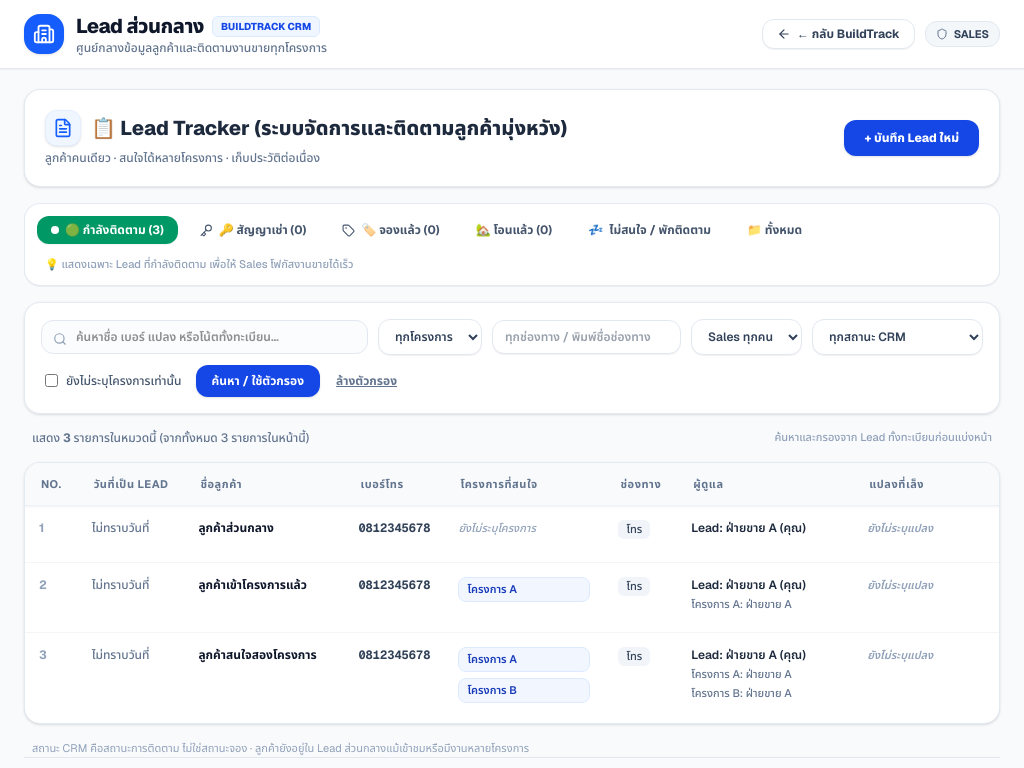
central lead workspace › preserves successful save feedback if the subsequent list refresh fails
Expected: the table is shown, [25,462,999,723]
Click the button "+ บันทึก Lead ใหม่" at (912, 138), box [844,120,979,156]
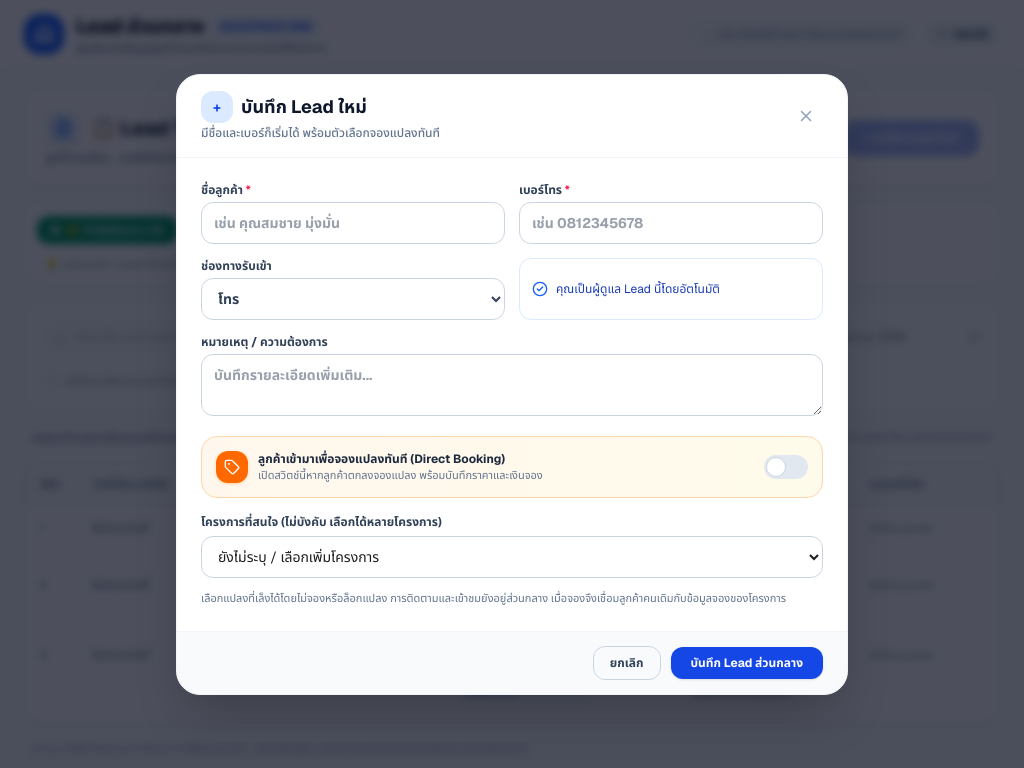
Type "ลูกค้าใหม่" into the field labelled "ชื่อลูกค้า *" at (353, 222), box [201,202,505,244]
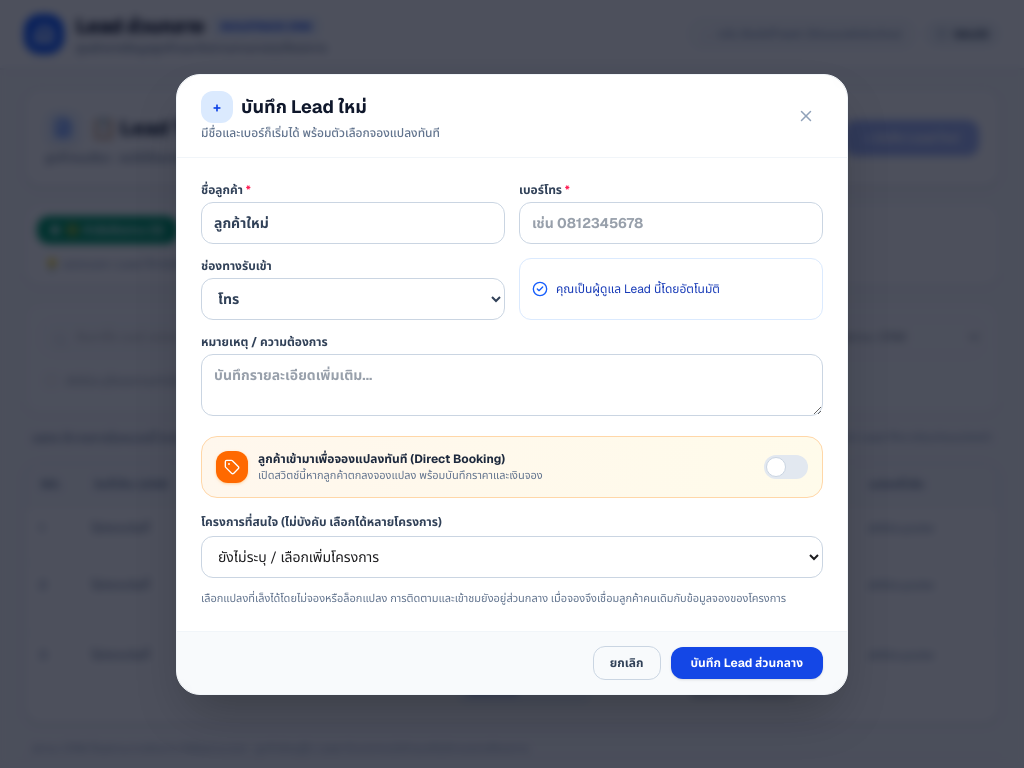
Type "0812345678" into the field labelled "เบอร์โทร *" at (671, 222), box [519,202,823,244]
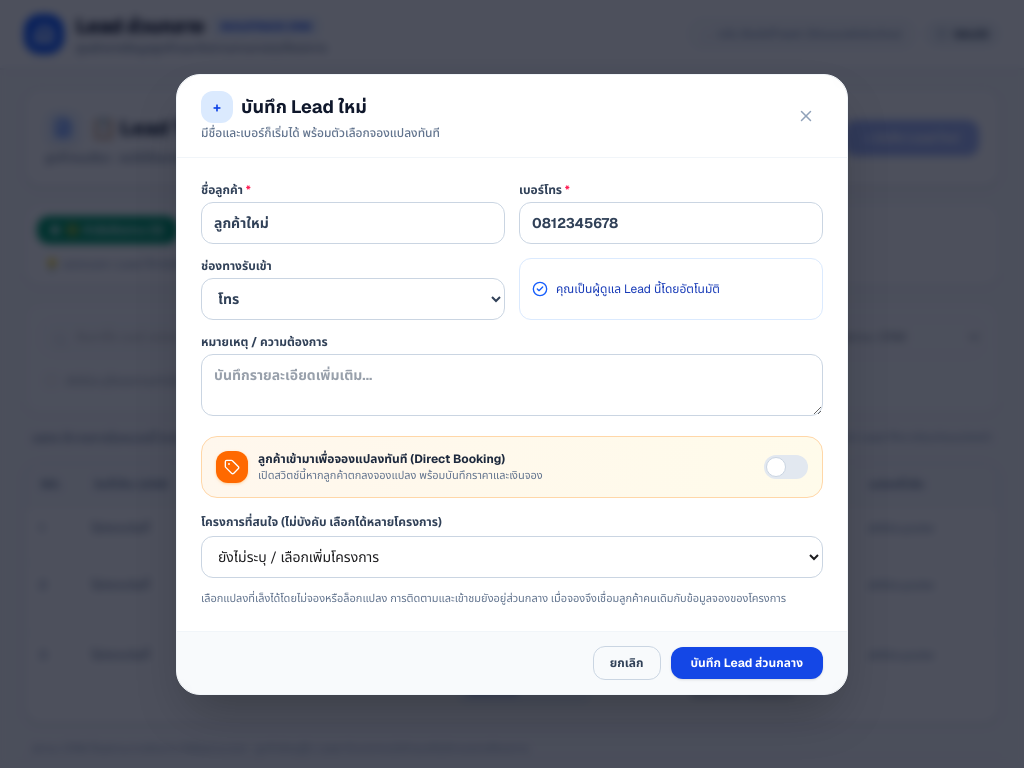
Submit the form named "บันทึก Lead ส่วนกลาง", box [177,74,847,694]
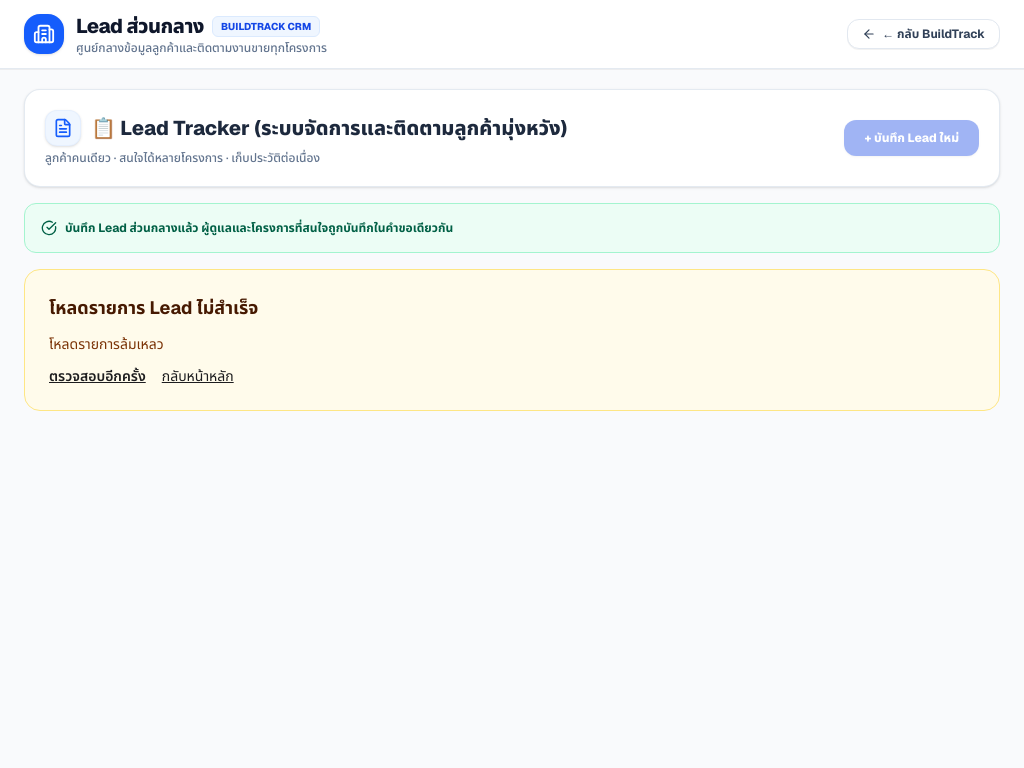
Expected: the message "โหลดรายการล้มเหลว" is shown, [49,335,164,353]
Expected: the message "บันทึก Lead ส่วนกลางแล้ว ผู้ดูแลและโครงการที่สนใจถูกบันทึกในคำขอเดียวกัน" is shown, [24,203,1000,253]
